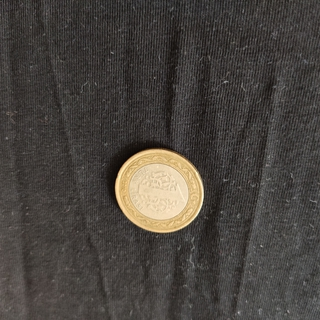1TL: (112, 146, 205, 234)
